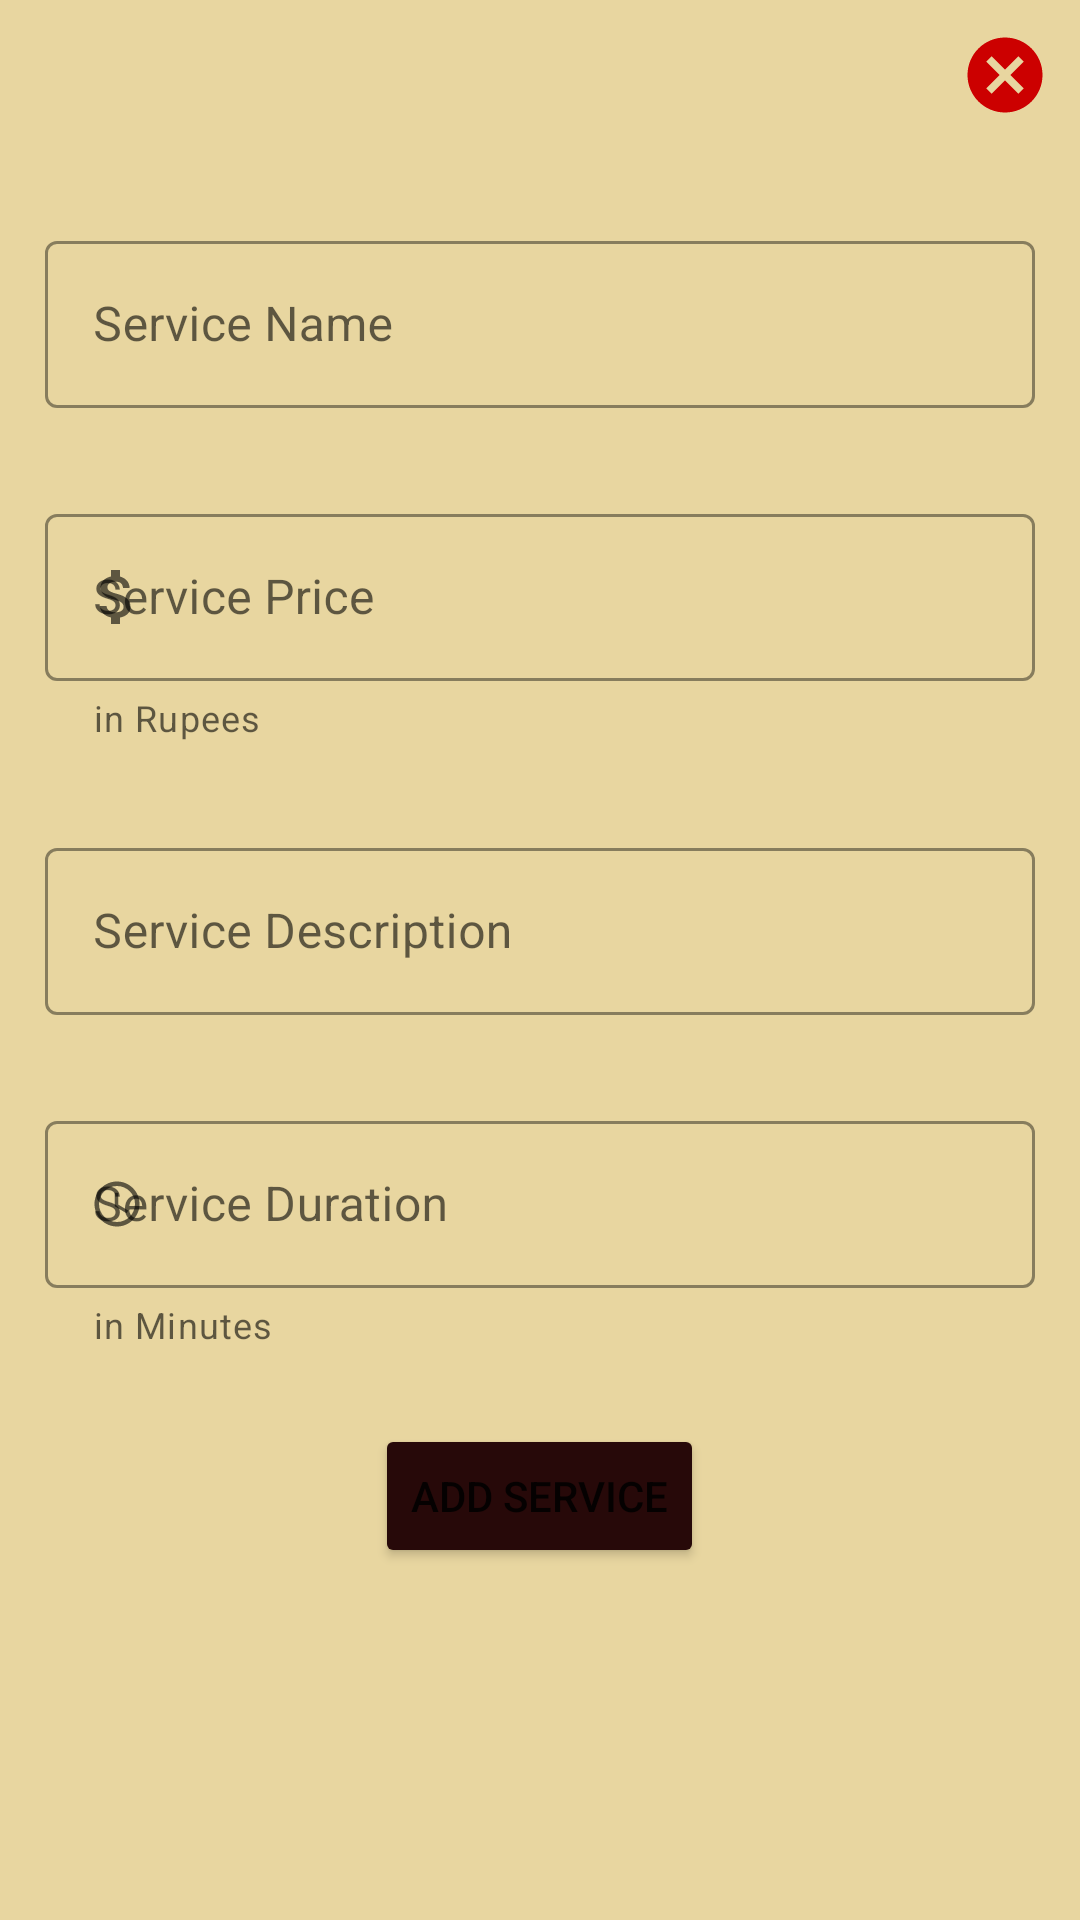

Point at icon controls on the screen. Image size 1080 × 1920, points as point (x, y).
cancel: point (1005, 75)
